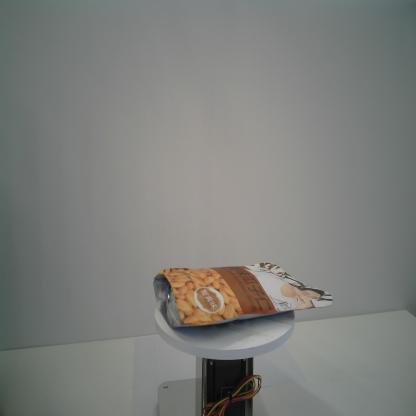Dried Fruit: (152, 262, 336, 330)
